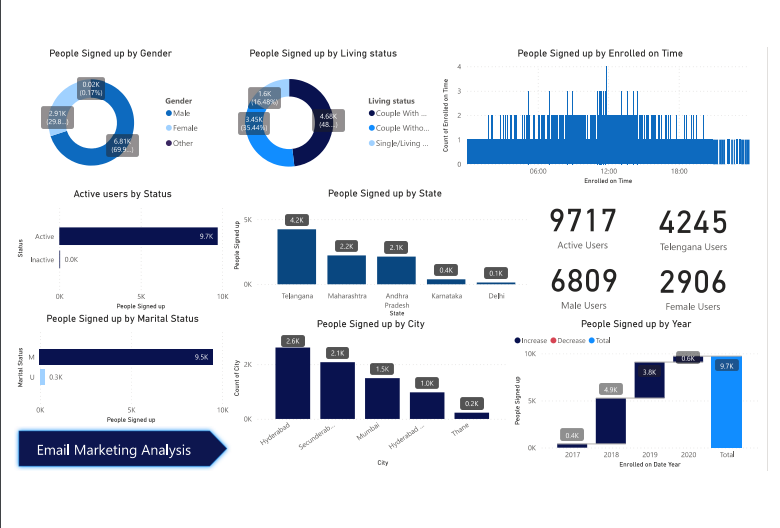

What the dashboard file says about the page in this screenshot:
{"tool":"powerbi","page":{"name":"Page 3","canvas":[1280,720],"ordinal":2},"visuals":[{"type":"donutChart","fields":{"Category":["Email Marketing.Gender"],"Y":["CountNonNull(Email Marketing.Gender)"]},"box":[0,0,328.3,238.3],"z":0},{"type":"barChart","title":"Active users by Status","fields":{"Category":["Email Marketing.Status"],"Y":["CountNonNull(Email Marketing.Status)"]},"box":[0,238.5,368.8,212.2],"z":1000},{"type":"barChart","fields":{"Category":["Email Marketing.Marital Status"],"Y":["CountNonNull(Email Marketing.Marital Status)"]},"box":[0,450.7,368.8,193.2],"z":2000},{"type":"donutChart","fields":{"Category":["Email Marketing.Living status"],"Y":["CountNonNull(Email Marketing.Living status)"]},"box":[328.3,0,395,238.3],"z":3000},{"type":"columnChart","fields":{"Category":["Email Marketing.State"],"Y":["CountNonNull(Email Marketing.State)"]},"box":[368.3,238.3,525,225],"z":4000},{"type":"columnChart","title":"People Signed up by City","fields":{"Category":["Email Marketing.City"],"Y":["CountNonNull(Email Marketing.City)"]},"box":[368.3,460,476.7,256.7],"z":5000},{"type":"waterfallChart","fields":{"Category":["Email Marketing.Enrolled on Date.Variation.Date Hierarchy.Year","Email Marketing.Enrolled on Date.Variation.Date Hierarchy.Quarter","Email Marketing.Enrolled on Date.Variation.Date Hierarchy.Month","Email Marketing.Enrolled on Date.Variation.Date Hierarchy.Day"],"Y":["CountNonNull(Email Marketing.Enrolled on Date)"]},"box":[845,460,425,260],"z":6000},{"type":"columnChart","title":"People Signed up by Enrolled on Time","fields":{"Category":["Email Marketing.Enrolled on Time"],"Y":["CountNonNull(Email Marketing.Enrolled on Time)"]},"box":[723.3,0,546.7,238.3],"z":7000},{"type":"card","fields":{"Values":["CountNonNull(Email Marketing.Status)"]},"box":[875,238.3,183.3,118.3],"z":8000},{"type":"card","fields":{"Values":["CountNonNull(Email Marketing.State)"]},"box":[1058.3,238.3,193.3,125],"z":9000},{"type":"card","fields":{"Values":["CountNonNull(Email Marketing.Gender)"]},"box":[875,350,186.7,100],"z":10000},{"type":"card","fields":{"Values":["CountNonNull(Email Marketing.Gender)"]},"box":[1068.3,351.7,171.7,100],"z":11000},{"type":"shape","box":[0,645.4,368.8,74.6],"z":11001}]}

Visuals, with their boxes on the page's 1280x720 design canvas (x1, y1, x2, y2). These are canvas units, not pixel positions in the 780x528 screenshot, which may show the page scaled, cropped or inside an application window:
donutChart - Email Marketing.Gender x CountNonNull(Email Marketing.Gender): {"left": 0, "top": 0, "right": 328, "bottom": 238}
"Active users by Status" barChart: {"left": 0, "top": 238, "right": 369, "bottom": 451}
barChart - Email Marketing.Marital Status x CountNonNull(Email Marketing.Marital Status): {"left": 0, "top": 451, "right": 369, "bottom": 644}
donutChart - Email Marketing.Living status x CountNonNull(Email Marketing.Living status): {"left": 328, "top": 0, "right": 723, "bottom": 238}
columnChart - Email Marketing.State x CountNonNull(Email Marketing.State): {"left": 368, "top": 238, "right": 893, "bottom": 463}
"People Signed up by City" columnChart: {"left": 368, "top": 460, "right": 845, "bottom": 717}
waterfallChart - Email Marketing.Enrolled on Date.Variation.Date Hierarchy.Year x Email Marketing.Enrolled on Date.Variation.Date Hierarchy.Quarter: {"left": 845, "top": 460, "right": 1270, "bottom": 720}
"People Signed up by Enrolled on Time" columnChart: {"left": 723, "top": 0, "right": 1270, "bottom": 238}
card - CountNonNull(Email Marketing.Status): {"left": 875, "top": 238, "right": 1058, "bottom": 357}
card - CountNonNull(Email Marketing.State): {"left": 1058, "top": 238, "right": 1252, "bottom": 363}
card - CountNonNull(Email Marketing.Gender): {"left": 875, "top": 350, "right": 1062, "bottom": 450}
card - CountNonNull(Email Marketing.Gender): {"left": 1068, "top": 352, "right": 1240, "bottom": 452}
shape: {"left": 0, "top": 645, "right": 369, "bottom": 720}
